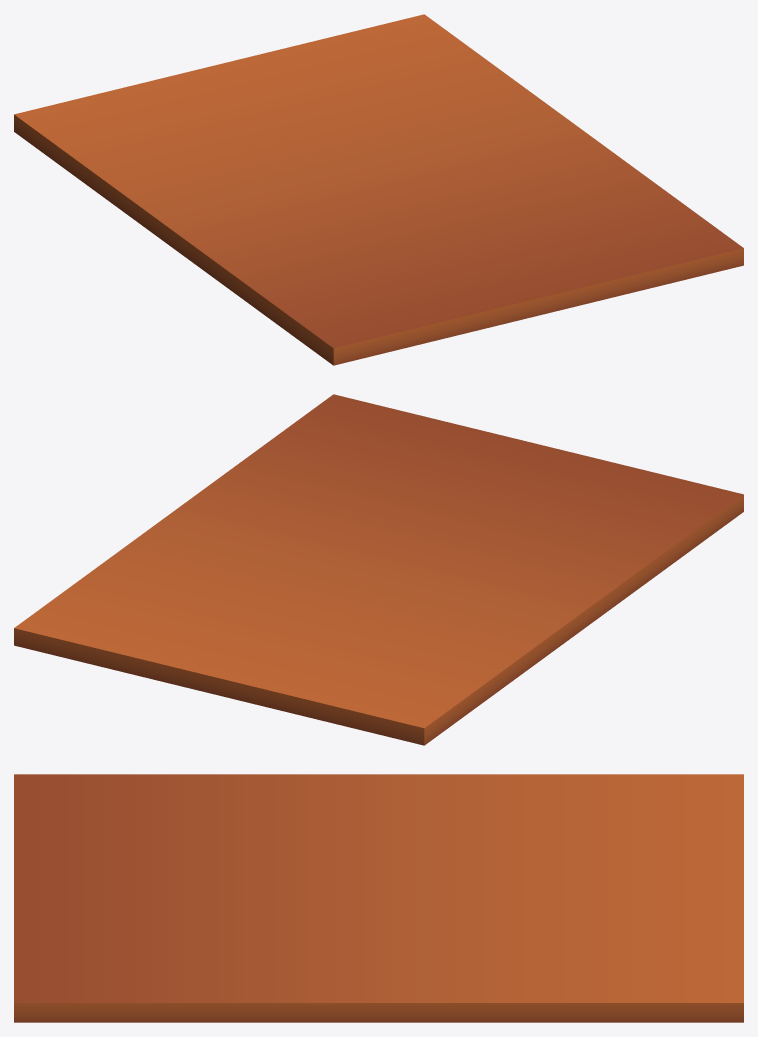
File: chopping_board.gltf
3 renders of one model, top to bottom at view 1: azimuth 30°, elevation 25°; view 2: azimuth 150°, elevation 25°; view 3: azimuth 270°, elevation 25°, orthographic. The views are drawn at different scales.
Visible parts, largest first — view 1: Cube; view 2: Cube; view 3: Cube.
Boxes of the visible parts, x1=… form: Cube: x1=14, y1=14, x2=743, y2=365; Cube: x1=14, y1=394, x2=743, y2=745; Cube: x1=14, y1=774, x2=743, y2=1022.
Bounding box in the file's own units: 1.48 × 0.06 × 2.
Materials: 1 (1 with a texture image).
